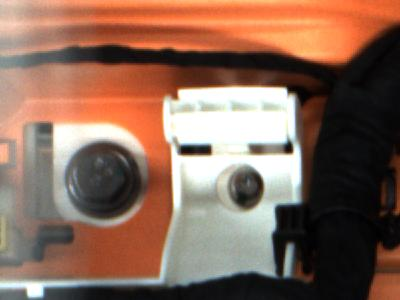nut_b: (60, 138, 145, 219)
